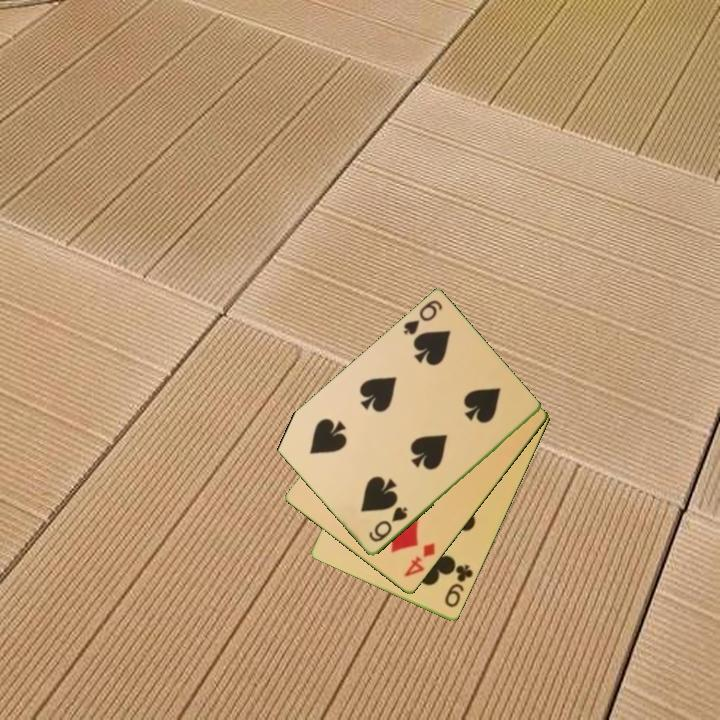4d: (400, 539, 438, 580)
6s: (365, 504, 411, 545), (399, 297, 445, 338)
9c: (441, 561, 476, 611)
